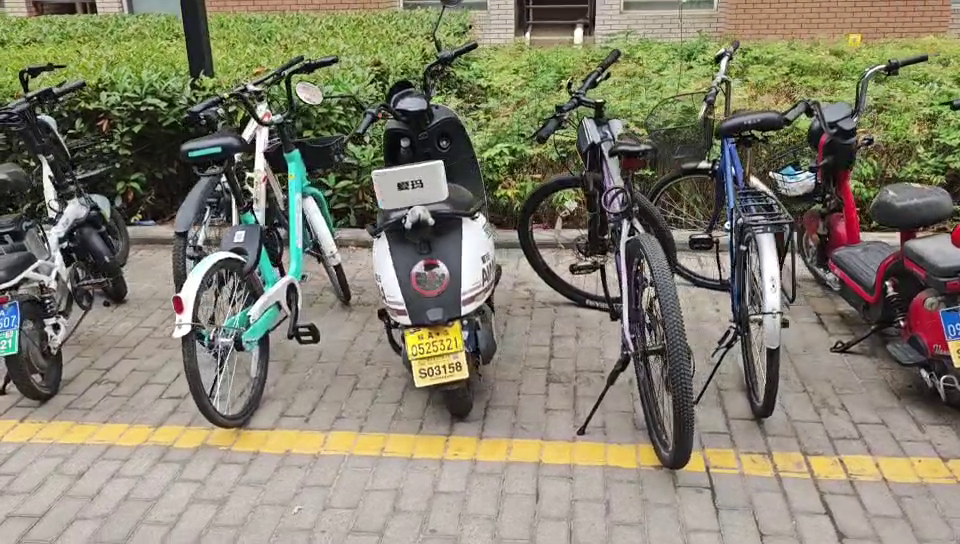others: (786, 45, 960, 433), (532, 69, 692, 466), (354, 60, 511, 425), (667, 54, 799, 420), (1, 66, 129, 408)
shared_bike_qingcong: (180, 69, 345, 426)
